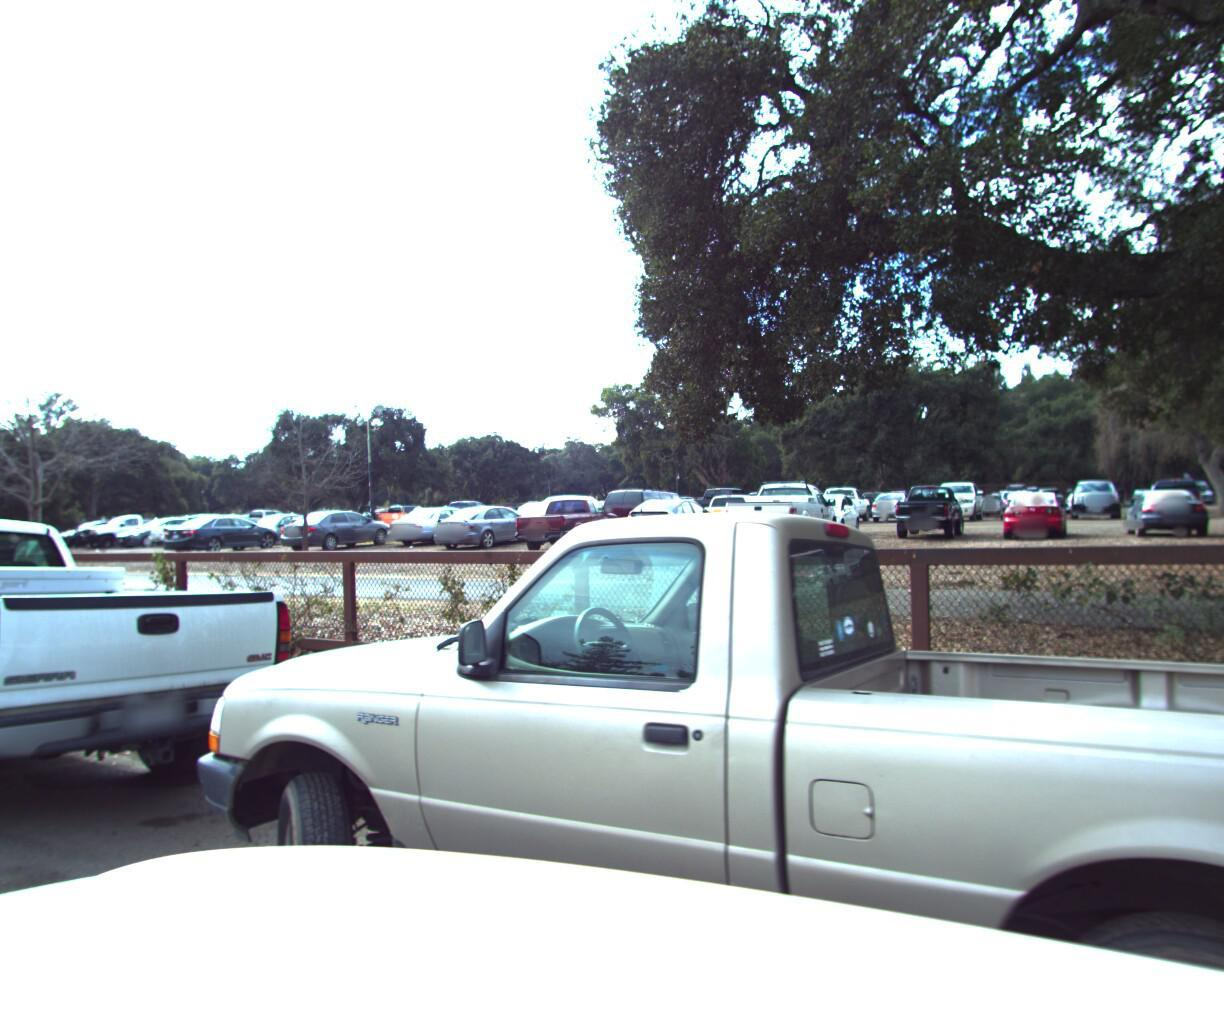car: (104, 448, 1224, 1024), (0, 487, 326, 930)
